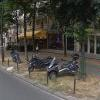Motorcycle: (29, 51, 78, 84)
